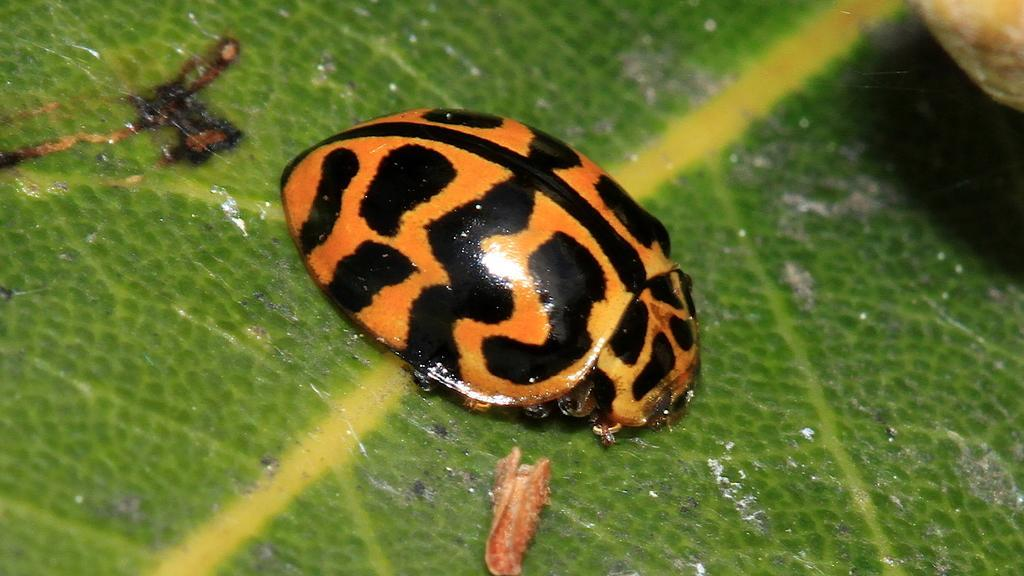ladybug: (281, 104, 706, 451)
